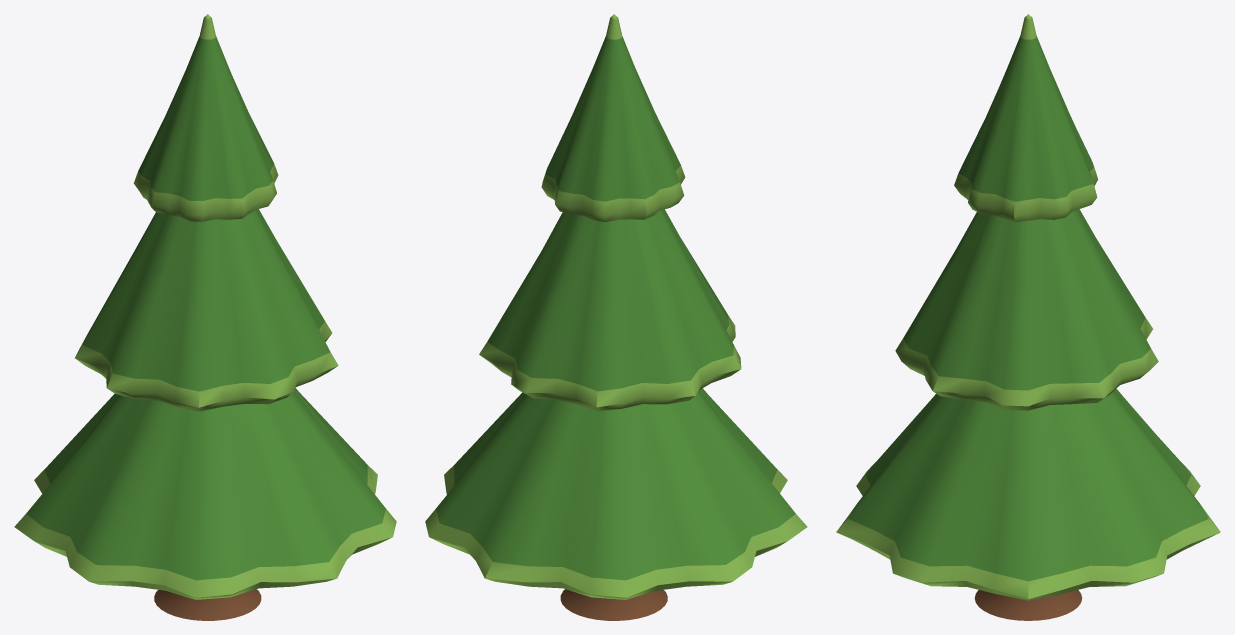
File: PineTree_06.glb
3 renders of one model, left to right at view 1: azimuth 30°, elevation 25°; view 2: azimuth 150°, elevation 25°; view 3: azimuth 270°, elevation 25°, orthographic.
Visible parts, largest first — view 1: PineTree_06; view 2: PineTree_06; view 3: PineTree_06.
Part boxes in pixels (box(x1,y1,x2,y2)): PineTree_06: box(14, 14, 396, 620); PineTree_06: box(425, 14, 807, 620); PineTree_06: box(836, 14, 1220, 620).
Bounding box in the file's own units: 4.86 × 8.32 × 4.97.
